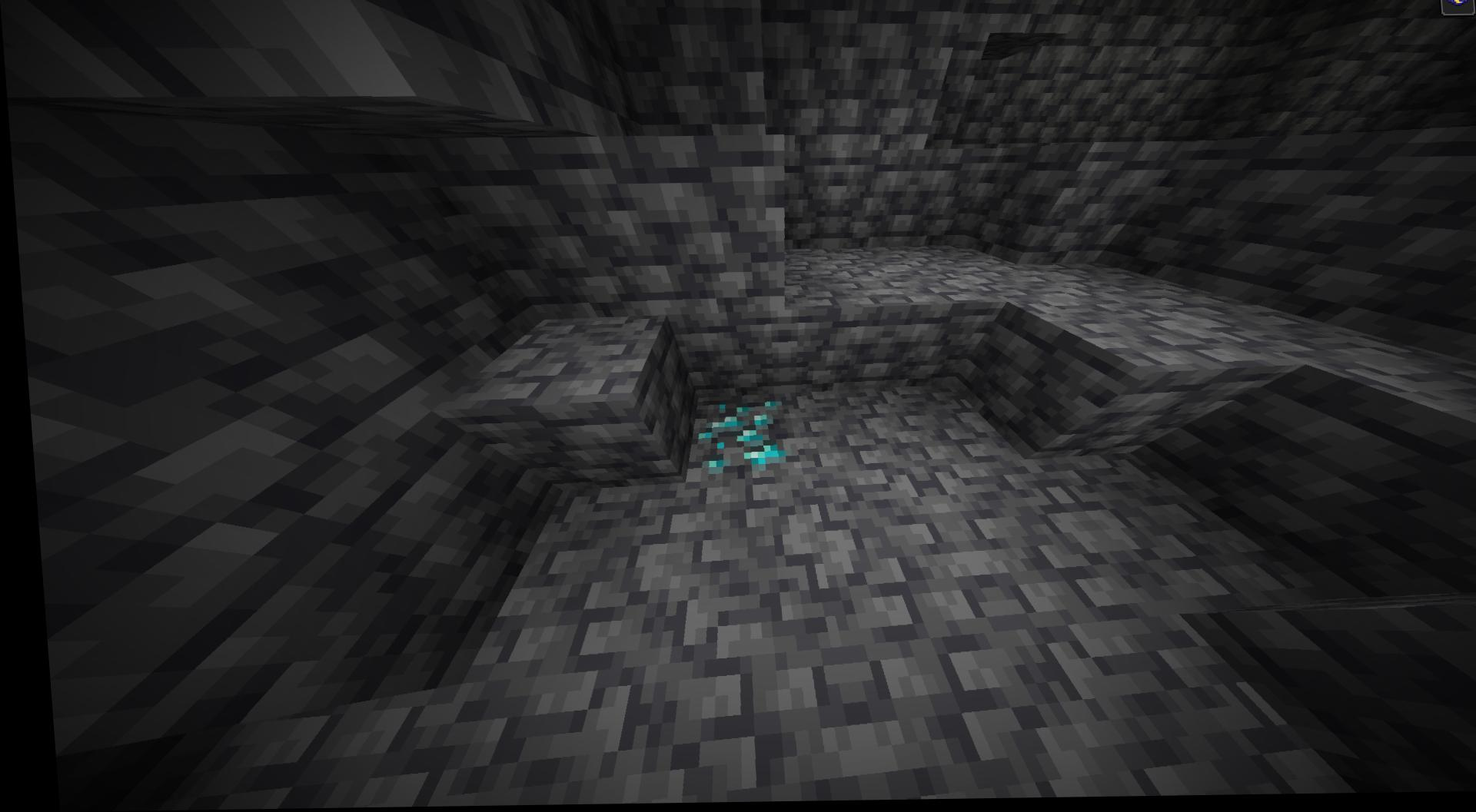diamond ore: (685, 396, 779, 477)
